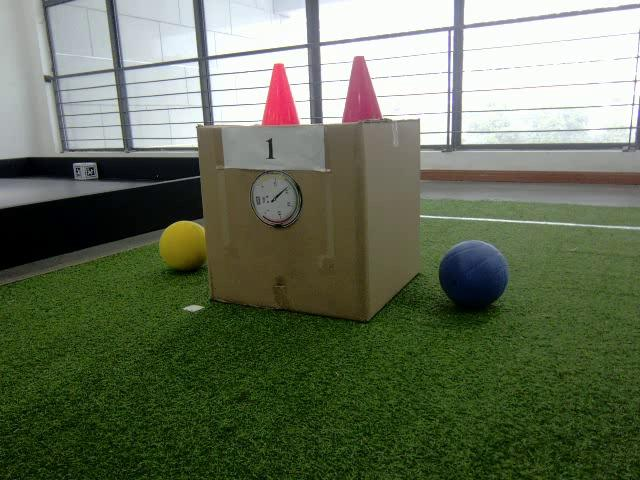1: (265, 138, 276, 160)
Dashboard: (250, 170, 303, 228)
blue_ball: (439, 240, 510, 309)
orange_barrel: (261, 62, 301, 126)
red_barrel: (342, 56, 383, 122)
ssi: (256, 196, 260, 205)
yellow_ball: (157, 219, 206, 272)
